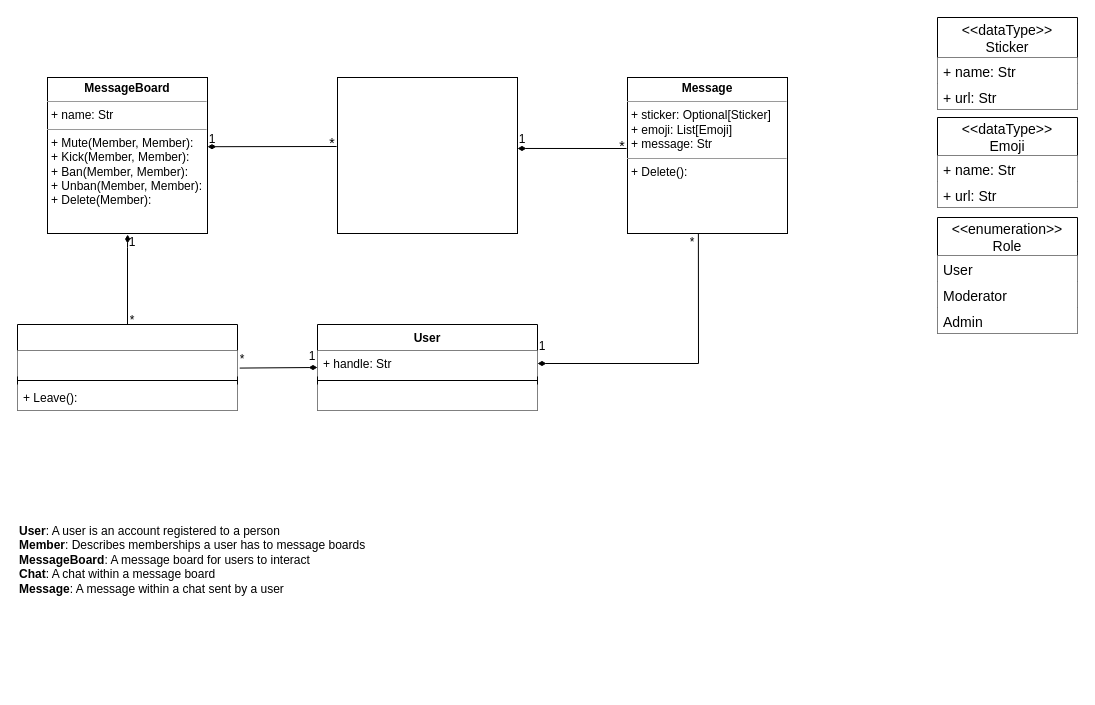
This 1095x705 diagram has some shape labels left out. The box of each missing label's shape, as (x1, y1, x2, y2) in pixels:
+ CreateBoard(Str): MessageBoard: (317, 384, 537, 410)
+ role: Role: (17, 350, 237, 376)
Chat + name: Str + PostMessage(Message):: (336, 76, 518, 234)
Member: (16, 324, 238, 410)
